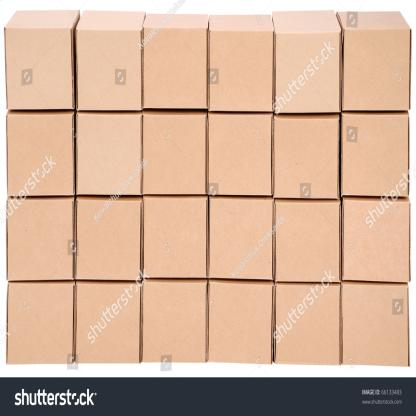box: (342, 198, 409, 284), (5, 28, 74, 111), (343, 27, 411, 111), (341, 114, 409, 198), (142, 25, 208, 111), (7, 112, 73, 197), (208, 26, 274, 110), (274, 29, 340, 113), (342, 284, 410, 364), (76, 30, 142, 111), (76, 115, 142, 196), (7, 197, 73, 278), (142, 281, 207, 363), (275, 202, 341, 282), (75, 199, 140, 280), (209, 198, 273, 280), (275, 115, 338, 198), (7, 283, 73, 362), (207, 115, 271, 196), (143, 197, 207, 277), (75, 283, 140, 361), (275, 284, 340, 362), (144, 113, 205, 193), (208, 284, 271, 361)
